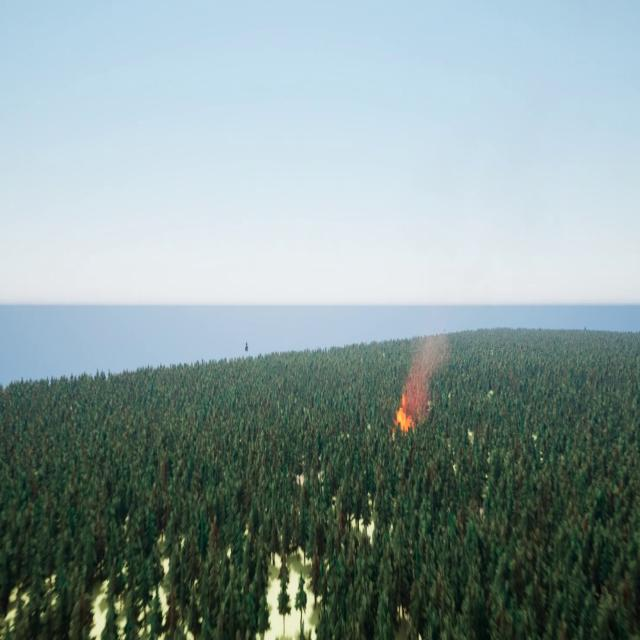fire: (392, 388, 412, 434)
smoke: (404, 328, 449, 423)
